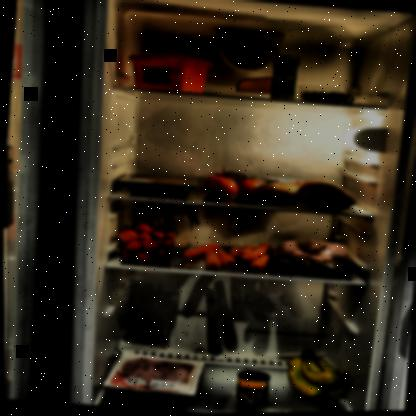banana: (278, 345, 358, 405)
beef: (113, 169, 200, 202)
blueberries: (298, 89, 355, 106)
butter: (128, 50, 215, 99)
carrot: (178, 234, 277, 274)
cheese: (232, 72, 281, 100)
chicken: (272, 236, 358, 284)
corn: (233, 369, 271, 403)
heavy_cream: (267, 51, 304, 104)
strawberries: (112, 221, 179, 266)
sweet_potato: (245, 176, 358, 218)
tomato: (200, 165, 269, 203)
